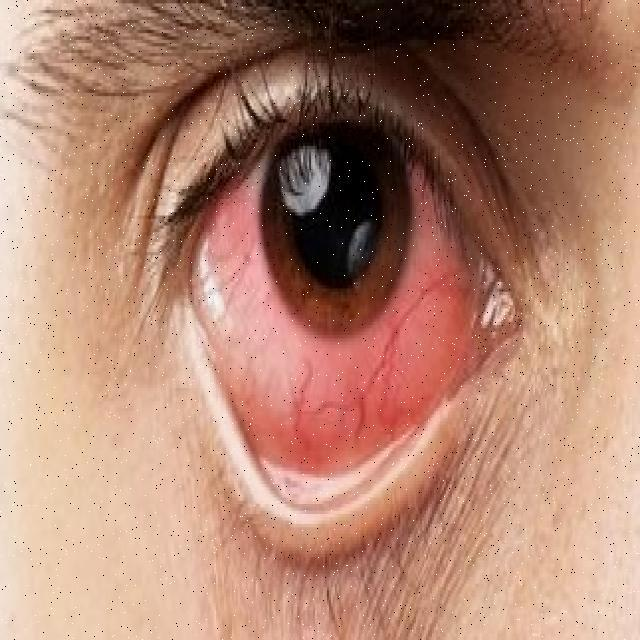Conjunctivitis: (178, 173, 532, 470)
